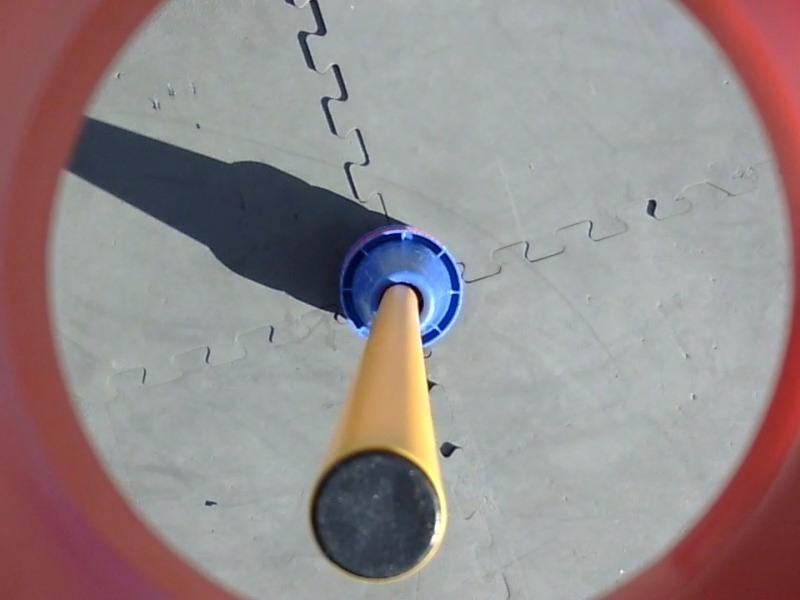tip: (304, 439, 453, 589)
